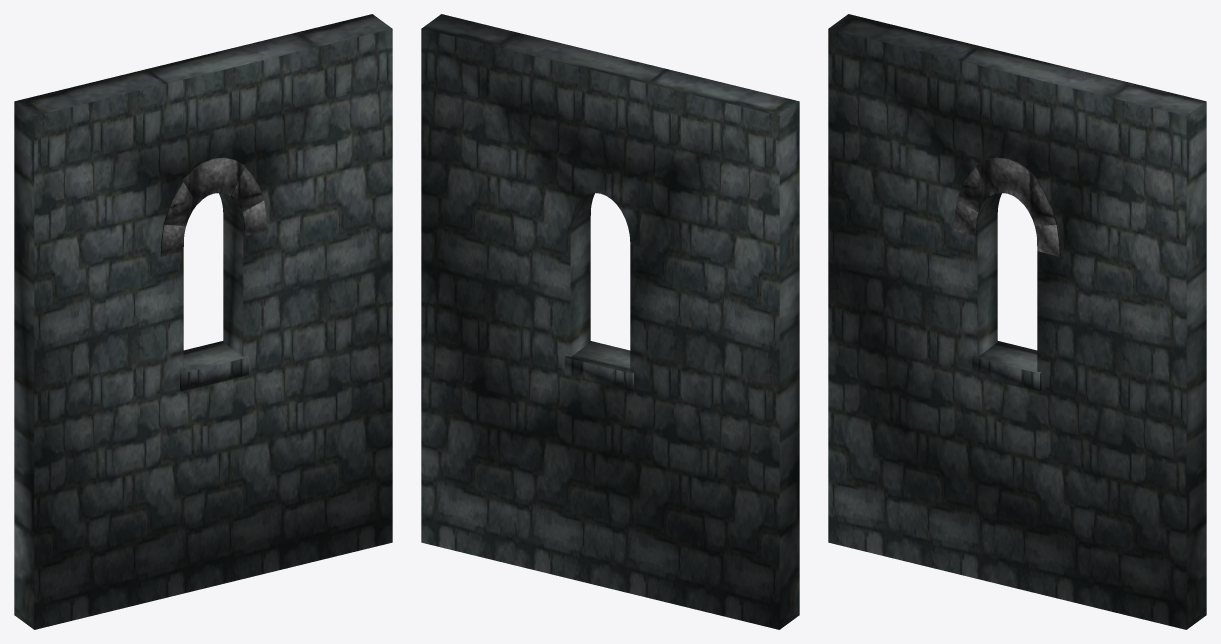
File: dark stone window2.glb
3 views of the same model, side by side, from view 1: azimuth 30°, elevation 25°; view 2: azimuth 150°, elevation 25°; view 3: azimuth 330°, elevation 25° (orthographic).
Parts seen in each view (by area): view 1: Circular Doorway.020; view 2: Circular Doorway.020; view 3: Circular Doorway.020.
Part boxes in pixels (bbox=[...]): Circular Doorway.020: bbox=[14, 14, 392, 629]; Circular Doorway.020: bbox=[421, 14, 799, 629]; Circular Doorway.020: bbox=[828, 14, 1206, 629].
Size of the model in its own units: 2 by 2.74 by 0.225.
2 materials, 2 textured.
